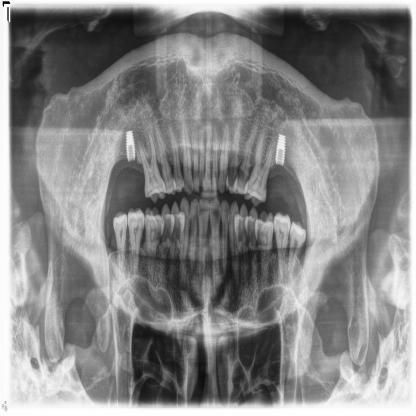Bicon: (272, 131, 290, 171), (124, 124, 138, 166)
